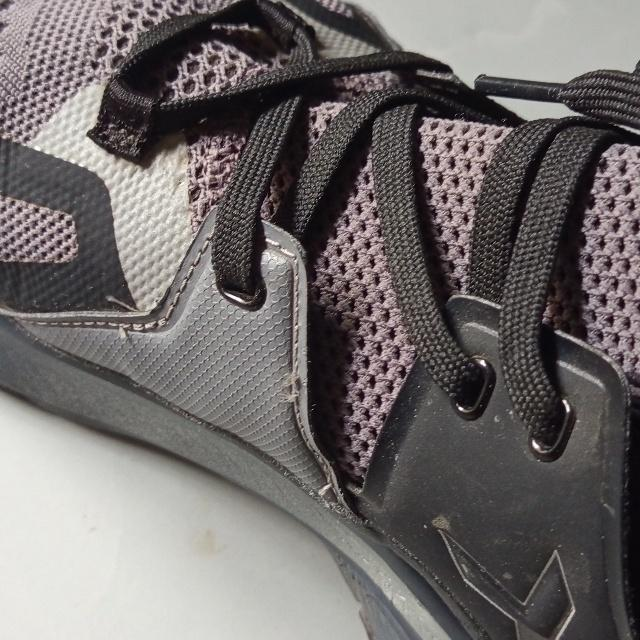broken: (282, 364, 303, 414)
